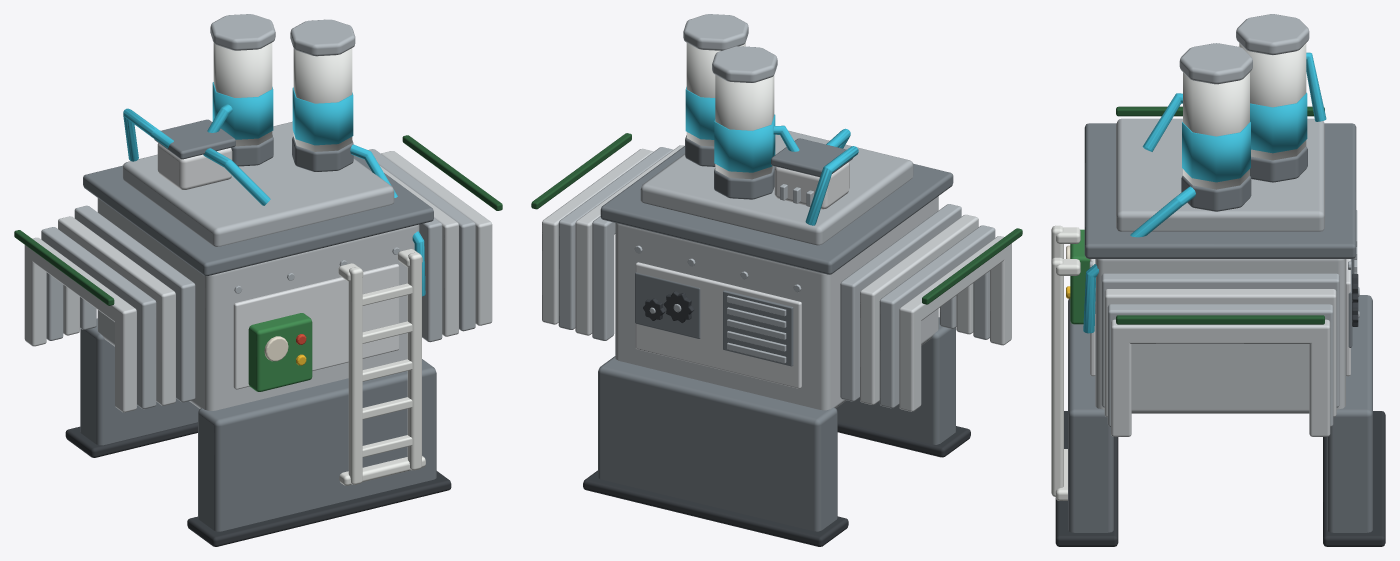
The model's file is wash_tunnel.glb.
3 renders of one model, left to right at view 1: azimuth 30°, elevation 25°; view 2: azimuth 150°, elevation 25°; view 3: azimuth 270°, elevation 25°, orthographic. The views are drawn at different scales.
Visible parts, largest first — view 1: block.031, block.027, block.029, block.028, block.030, block.034, block.032, block.046, cyl.010, block.036, cyl.007, block.038 (+38 smaller); view 2: block.034, block.027, block.028, block.029, block.033, block.031, block.035, cyl.007, block.003, block.006, block.009, water0 (+30 smaller); view 3: block.027, block.028, block.029, block.034, block.031, block.025, cyl.010, block.016, block.019, cyl.007, water1, block.038 (+21 smaller).
Part boxes in pixels (x1,y1,x2,y2): block.031: [198, 359, 436, 531]; block.027: [97, 198, 419, 410]; block.029: [122, 121, 394, 246]; block.028: [83, 155, 433, 276]; block.030: [233, 264, 399, 389]; block.034: [80, 318, 199, 445]; block.032: [187, 471, 451, 546]; block.046: [248, 313, 312, 391]; cyl.010: [293, 48, 352, 151]; block.036: [348, 267, 362, 484]; cyl.007: [213, 42, 272, 146]; block.038: [407, 252, 421, 470]; block.034: [598, 356, 837, 531]; block.027: [615, 196, 938, 410]; block.028: [600, 146, 953, 274]; block.029: [640, 130, 913, 245]; block.033: [635, 262, 801, 388]; block.031: [836, 317, 955, 444]; block.035: [583, 470, 848, 546]; cyl.007: [715, 75, 774, 179]; block.003: [840, 204, 961, 299]; block.006: [860, 214, 978, 308]; block.009: [879, 225, 995, 316]; water0: [714, 114, 775, 172]; block.027: [1095, 259, 1345, 413]; block.028: [1084, 123, 1356, 258]; block.029: [1116, 118, 1324, 231]; block.034: [1327, 295, 1372, 532]; block.031: [1068, 298, 1113, 532]; block.025: [1111, 319, 1330, 343]; cyl.010: [1183, 72, 1249, 189]; block.016: [1101, 273, 1339, 296]; block.019: [1104, 289, 1336, 310]; cyl.007: [1239, 43, 1306, 160]; water1: [1182, 122, 1250, 182]; block.038: [1051, 257, 1063, 496].
Bounding box in the file's own units: 2.4 × 2.44 × 1.6.
